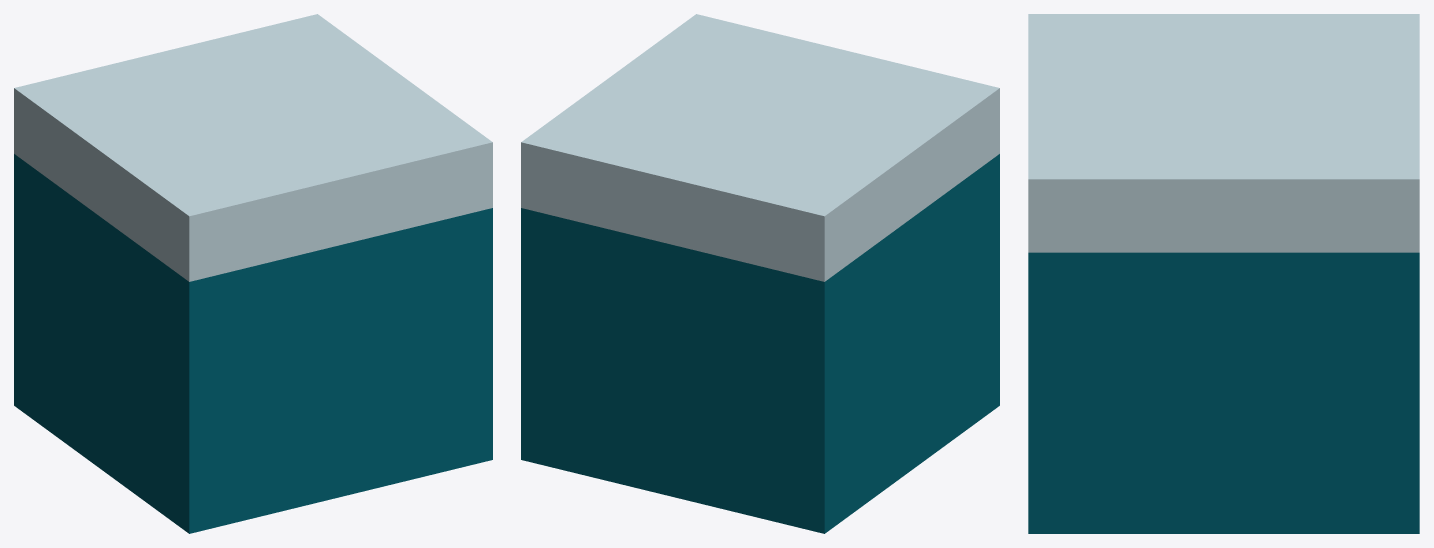
Rendered from Block1x1x1.fbx.
3 renders of one model, left to right at view 1: azimuth 30°, elevation 25°; view 2: azimuth 150°, elevation 25°; view 3: azimuth 270°, elevation 25°, orthographic. The views are drawn at different scales.
Visible parts, largest first — view 1: pCube226; view 2: pCube226; view 3: pCube226.
Boxes of the visible parts, <box> form: pCube226: <box>14,14,492,533</box>; pCube226: <box>521,14,999,533</box>; pCube226: <box>1028,14,1419,533</box>.
Size of the model in its own units: 100 by 100 by 100.
